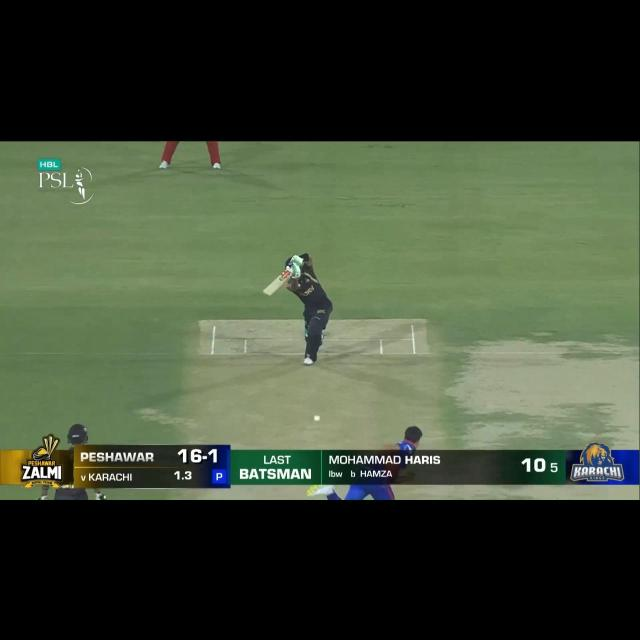bat: (262, 264, 295, 300)
toe: (262, 288, 274, 298)
